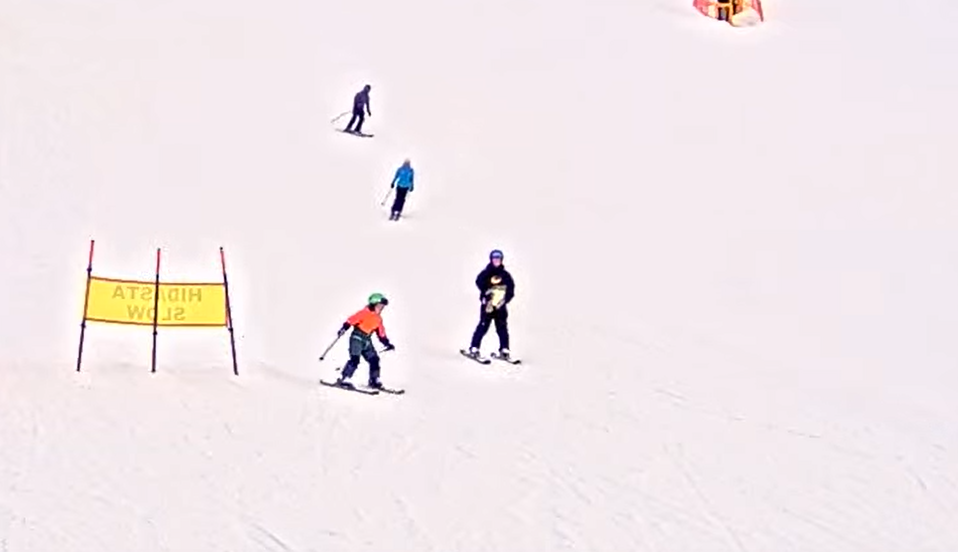skier: (305, 281, 418, 402), (457, 243, 528, 367), (323, 73, 389, 144), (369, 150, 430, 226)
